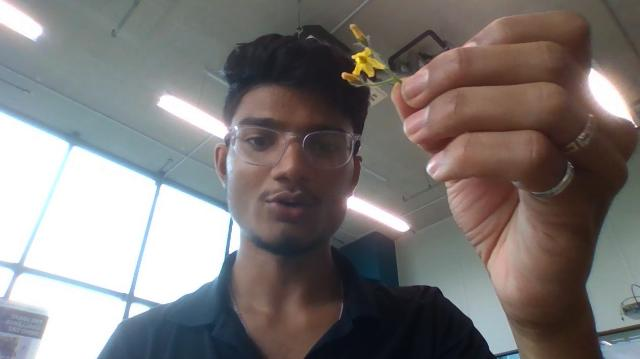Anthesis: (349, 47, 384, 79), (349, 23, 368, 44)
